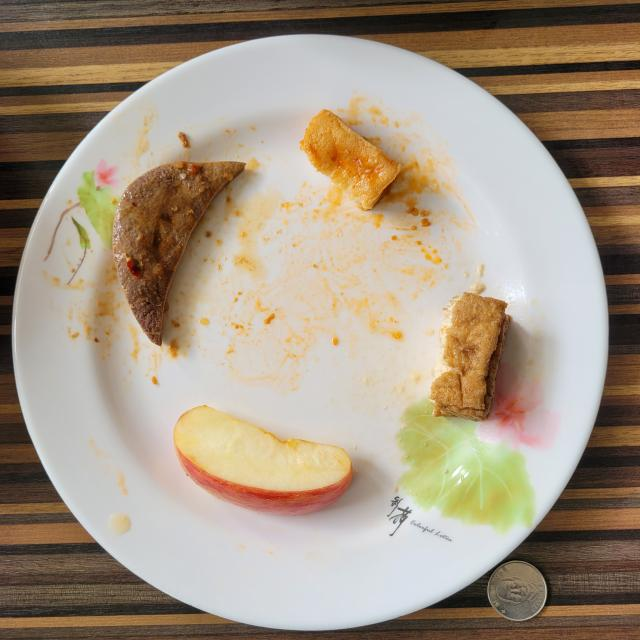apple -sliced-: (174, 405, 352, 515)
coin: (488, 561, 548, 621)
creamy tofu: (300, 110, 401, 210)
egg tofu: (430, 292, 510, 421)
pig liver: (112, 161, 245, 345)
